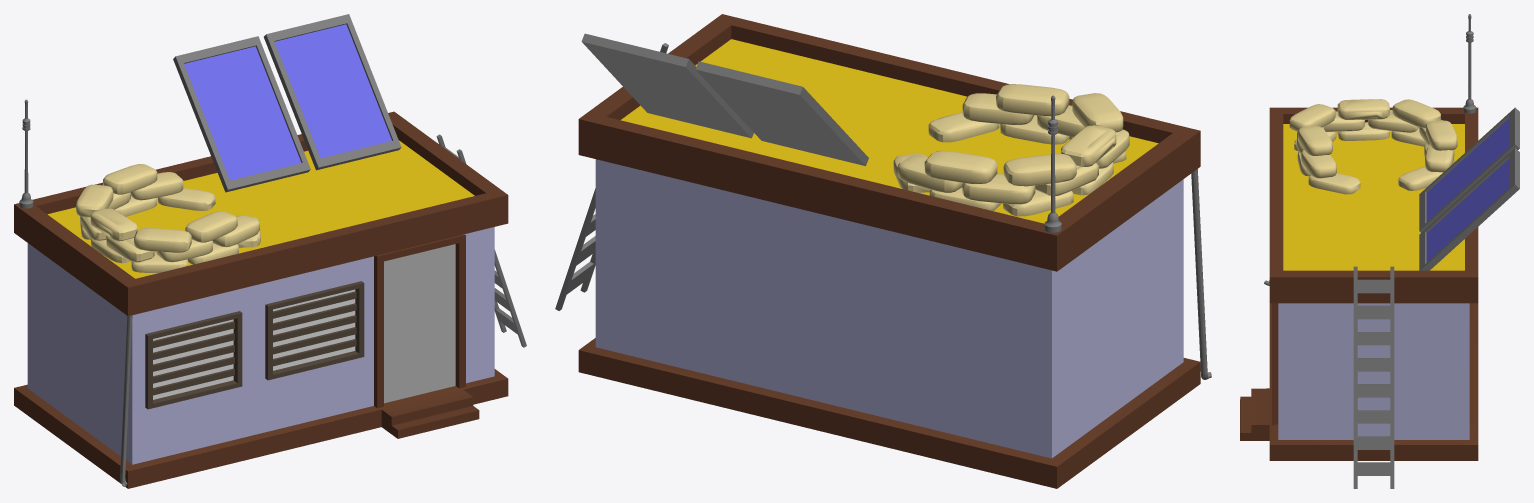
3 renders of one model, left to right at view 1: azimuth 30°, elevation 25°; view 2: azimuth 150°, elevation 25°; view 3: azimuth 270°, elevation 25°, orthographic. The views are drawn at different scales.
Parts seen in each view (by area): view 1: house; view 2: house; view 3: house.
Boxes of the visible parts, x1,y1,x2,y2 form: house: [14, 14, 526, 488]; house: [555, 14, 1211, 488]; house: [1240, 14, 1519, 488].
Size of the model in its own units: 499 by 324 by 292.
